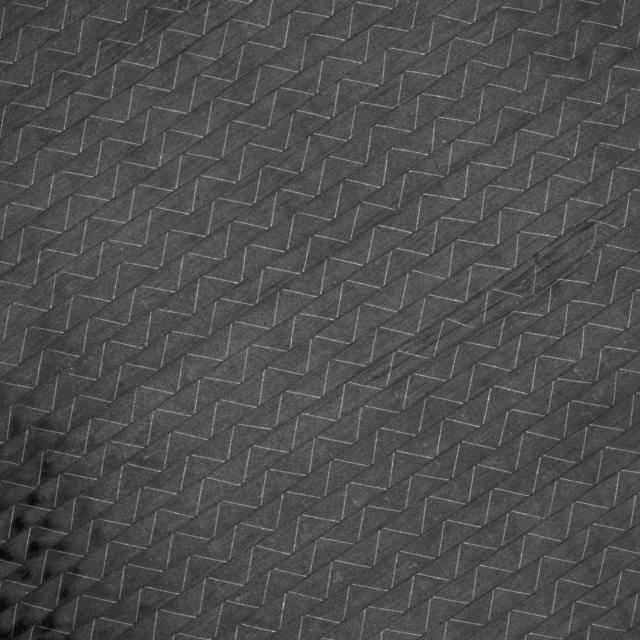carbon-fibre-defect: (365, 219, 607, 397)
